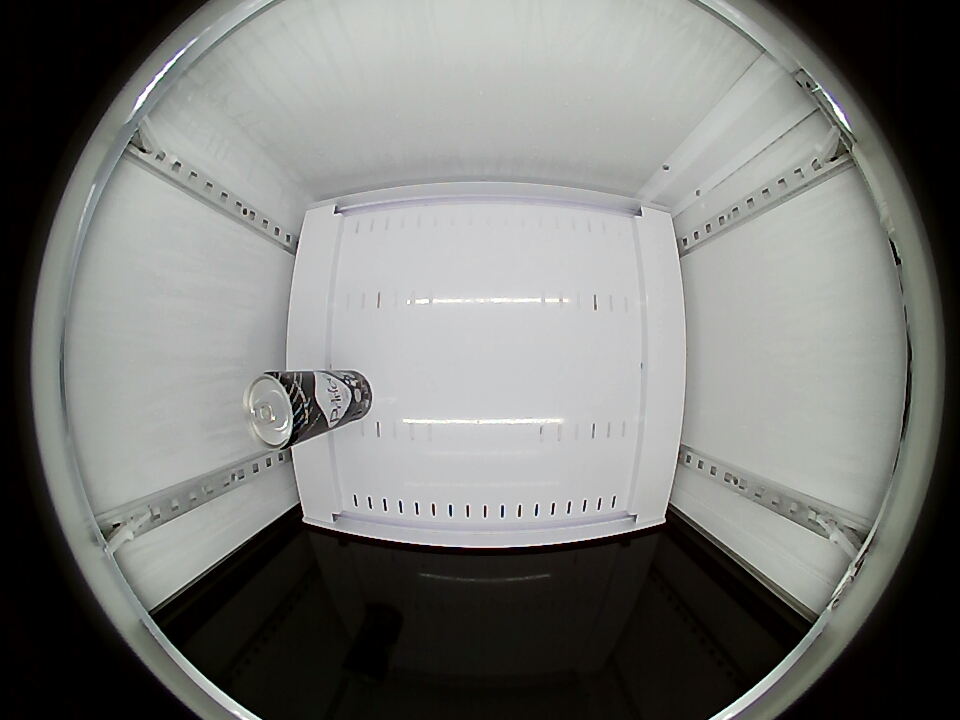qingdaowangzi-1: (245, 371, 314, 449)
